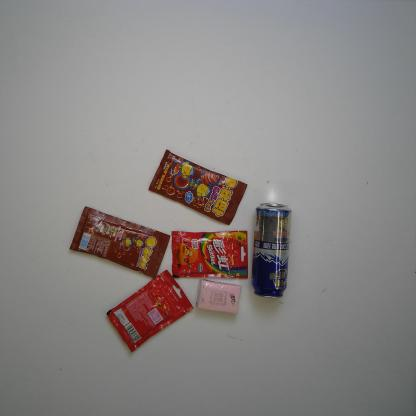Alcohol: (250, 202, 292, 298)
Candy: (147, 149, 248, 225), (69, 205, 171, 280), (106, 269, 196, 354), (171, 230, 249, 280)
Tissue: (195, 279, 243, 315)
